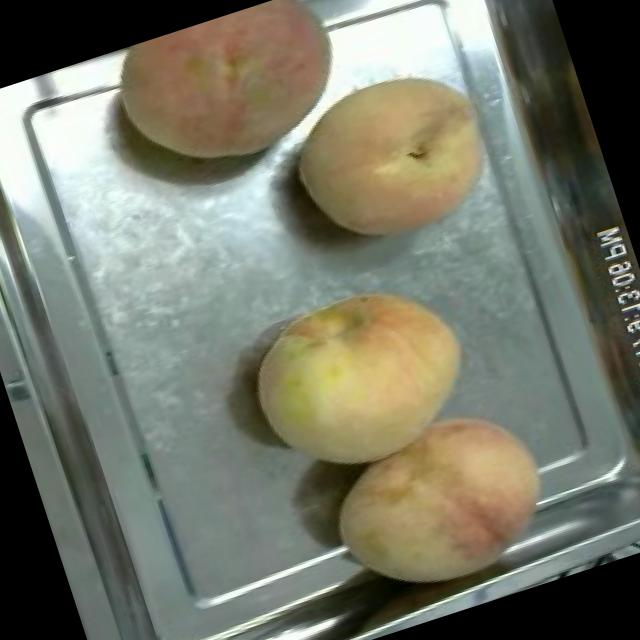Fruit: (305, 380, 579, 626), (227, 254, 497, 498), (268, 40, 518, 271), (98, 0, 369, 198)
